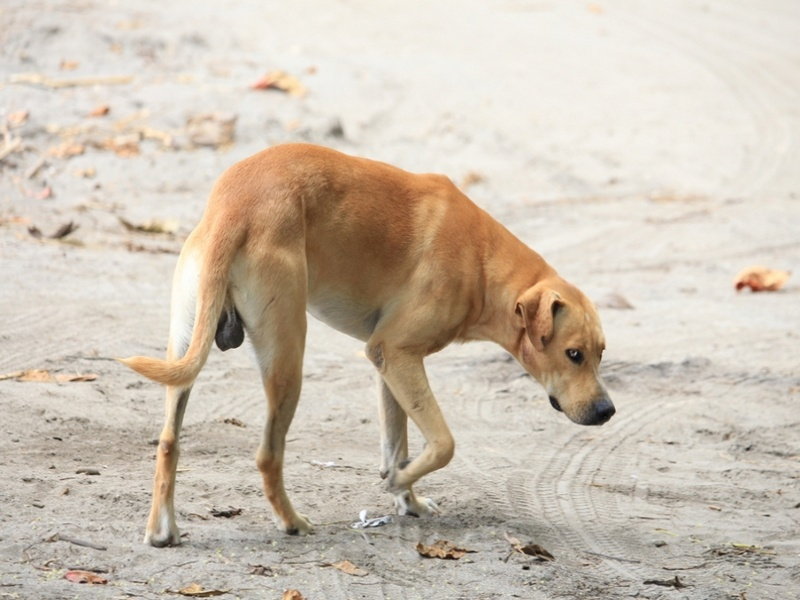dog: (114, 140, 625, 548)
